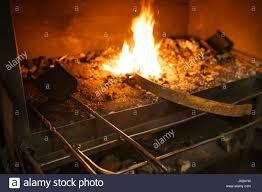fire: (103, 6, 166, 78)
